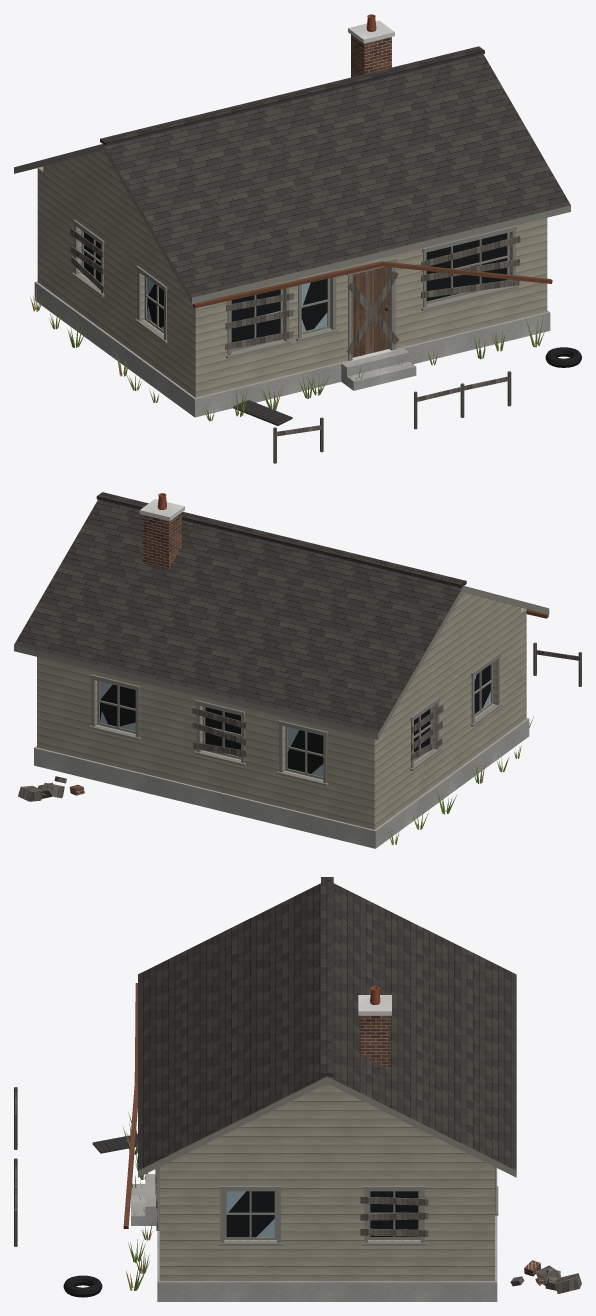
The model's file is boarded-house.glb.
The picture shows the model from 3 angles, top to bottom: view 1: azimuth 30°, elevation 25°; view 2: azimuth 150°, elevation 25°; view 3: azimuth 270°, elevation 25°; orthographic projection. The views are drawn at different scales.
Visible parts, largest first — view 1: Boarded_Up_House; view 2: Boarded_Up_House; view 3: Boarded_Up_House.
Boxes of the visible parts, x1=… form: Boarded_Up_House: x1=14, y1=14, x2=581, y2=463; Boarded_Up_House: x1=14, y1=492, x2=581, y2=848; Boarded_Up_House: x1=14, y1=877, x2=581, y2=1301.
Bounding box in the file's own units: 10.06 × 6.47 × 11.86.
17 materials, 7 textured.
